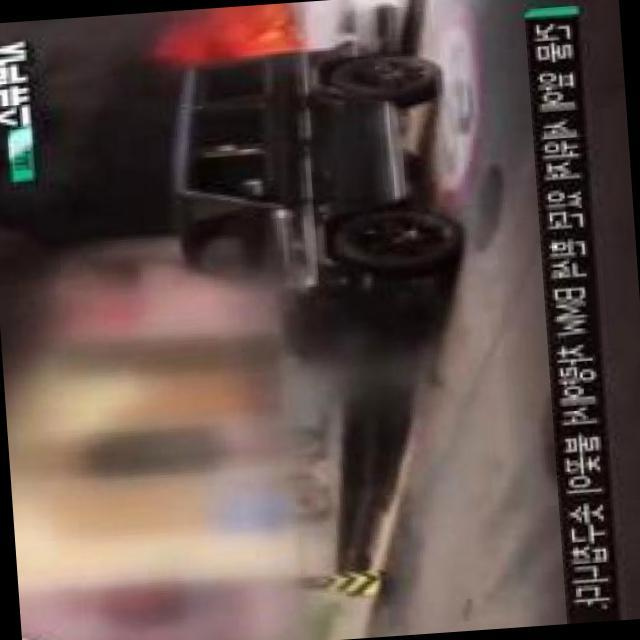Fire: (185, 2, 303, 61)
